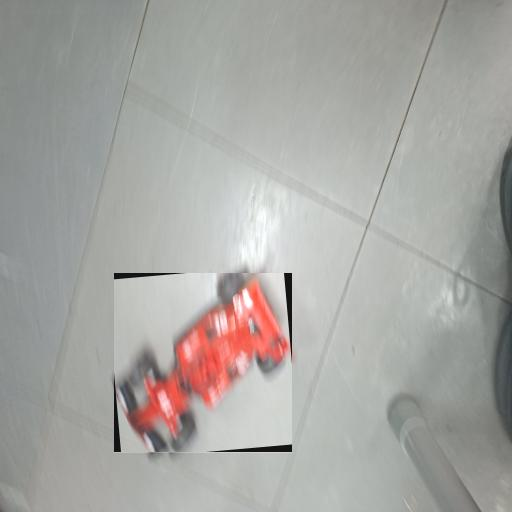carro: (113, 274, 290, 453)
